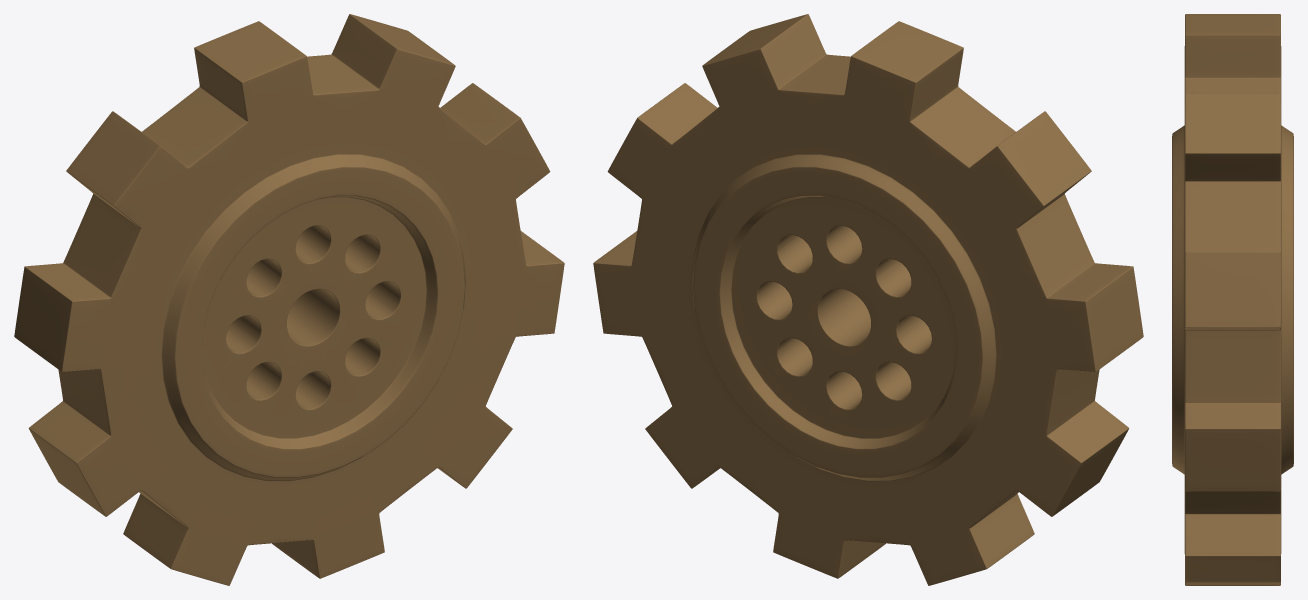
The model's file is cogDesignHoles.fbx.
3 views of the same model, side by side, from view 1: azimuth 30°, elevation 25°; view 2: azimuth 150°, elevation 25°; view 3: azimuth 270°, elevation 25° (orthographic).
Parts seen in each view (by area): view 1: cogDesignHoles; view 2: cogDesignHoles; view 3: cogDesignHoles.
Part boxes in pixels (x1=…): cogDesignHoles: x1=14, y1=14, x2=564, y2=585; cogDesignHoles: x1=593, y1=14, x2=1143, y2=585; cogDesignHoles: x1=1172, y1=14, x2=1293, y2=585.
Bounding box in the file's own units: 176 × 176 × 37.02.
